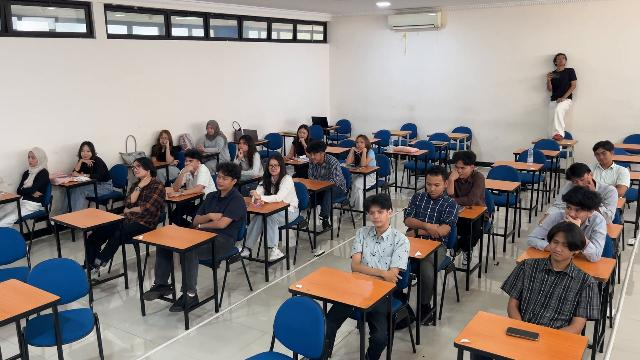bingung: (550, 237, 572, 260), (368, 209, 387, 226), (565, 203, 585, 219), (426, 178, 442, 197), (216, 172, 229, 190), (454, 164, 469, 178), (595, 151, 610, 164), (132, 162, 143, 178), (268, 161, 279, 174), (81, 146, 91, 160), (28, 153, 37, 167), (309, 153, 319, 163), (185, 157, 195, 166), (239, 140, 248, 150), (356, 139, 365, 149), (160, 134, 168, 143), (206, 125, 214, 134), (298, 130, 307, 138)
